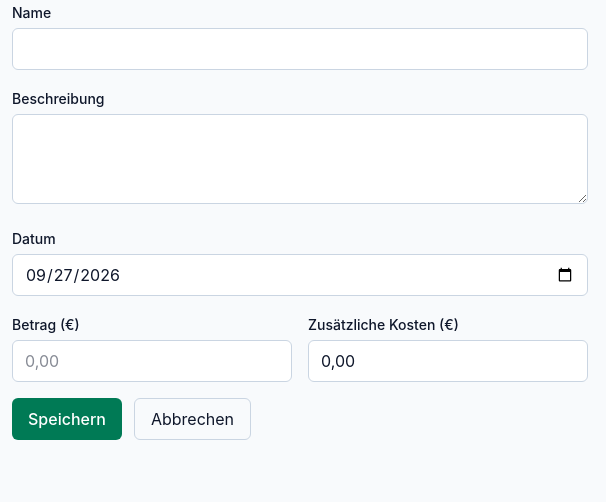
Test case: BookingForm › rejects invalid extra costs
Type "Laptop" into the field labelled "Name" at (300, 49), box x1=12 y1=28 x2=588 y2=70
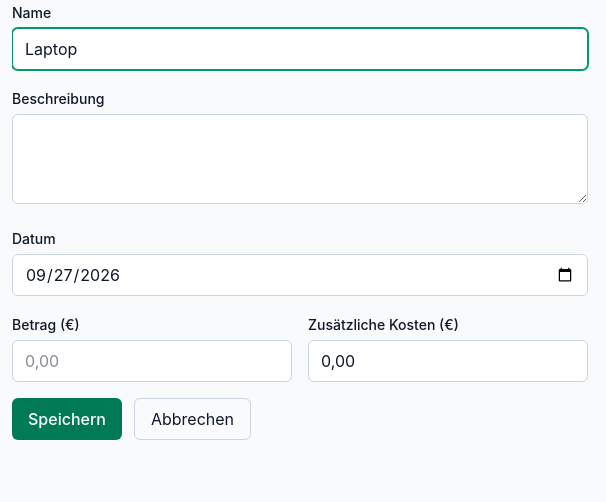
Type "10" into the field labelled "Betrag (€)" at (152, 361), box x1=12 y1=340 x2=292 y2=382
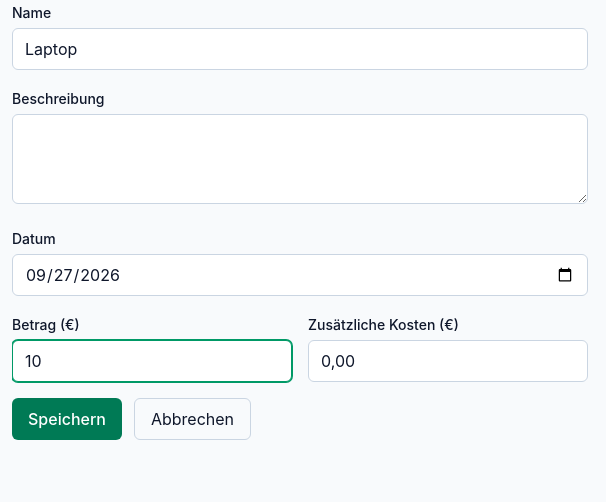
Type "-5" into the field labelled "Zusätzliche Kosten (€)" at (448, 361), box x1=308 y1=340 x2=588 y2=382
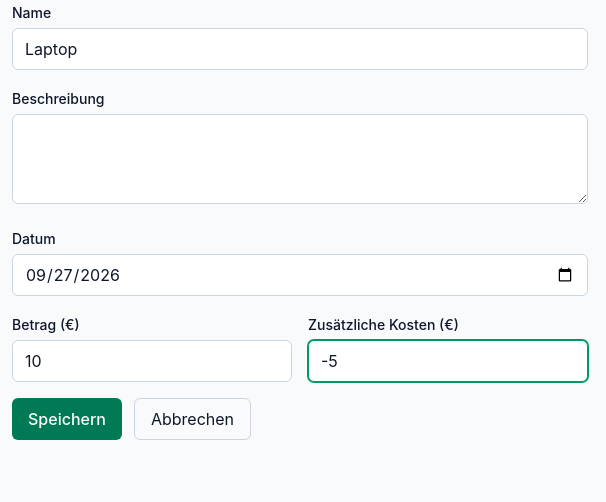
Click the button "Speichern" at (67, 419), box x1=12 y1=398 x2=122 y2=440
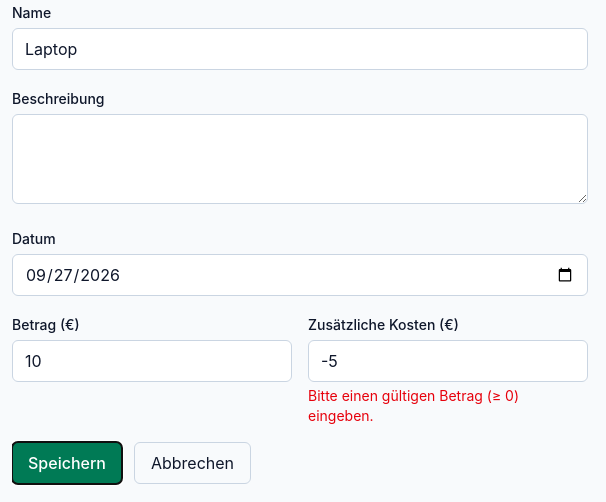
Result: the text "Bitte einen gültigen Betrag (≥ 0) eingeben." is shown at x1=308 y1=387 x2=519 y2=424
